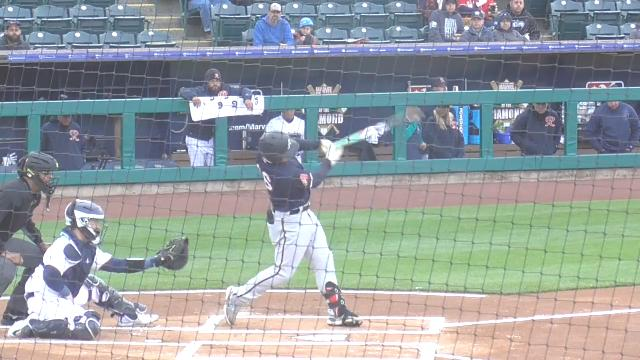bat: (337, 104, 425, 148)
